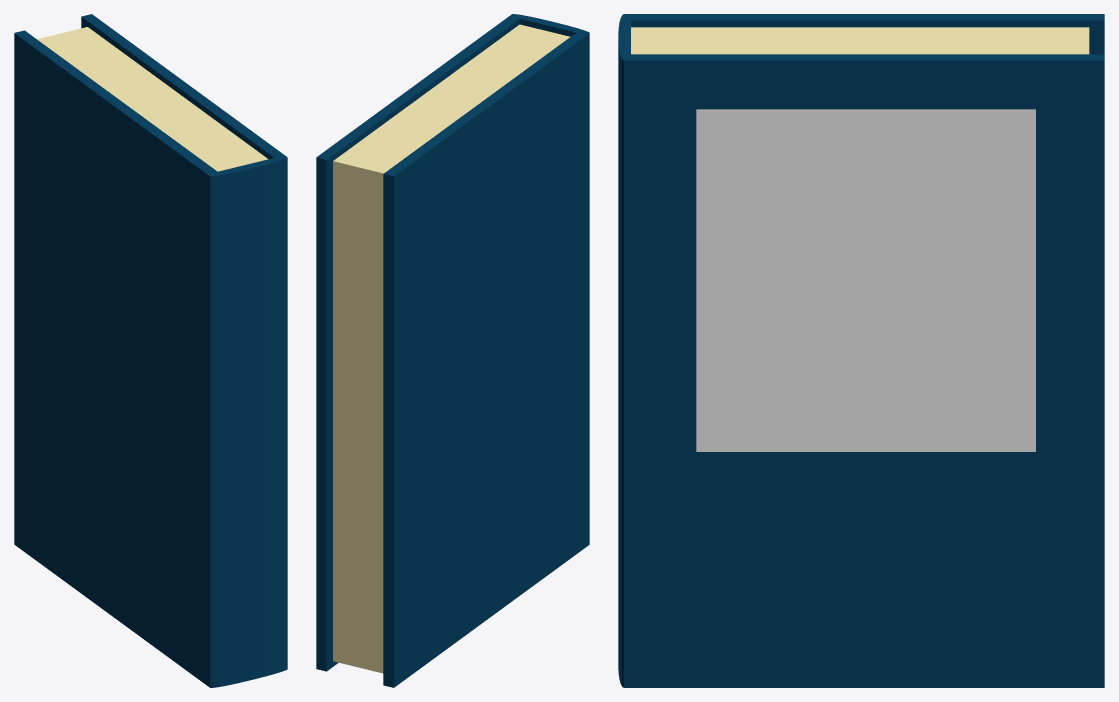
Rendered from Book3.fbx.
3 renders of one model, left to right at view 1: azimuth 30°, elevation 25°; view 2: azimuth 150°, elevation 25°; view 3: azimuth 270°, elevation 25°, orthographic. The views are drawn at different scales.
Parts seen in each view (by area): view 1: Cube.002, Cube.003, Cube, Cube.001; view 2: Cube.002, Cube, Cube.001, Cube.003; view 3: Cube.001, Plane, Cube, Cube.003, Cube.002.
Part boxes in pixels (<box>): Cube.002: <box>14,30,218,686</box>; Cube.003: <box>208,156,287,687</box>; Cube: <box>37,27,267,171</box>; Cube.001: <box>81,14,285,159</box>; Cube.002: <box>383,31,588,687</box>; Cube: <box>333,24,570,673</box>; Cube.001: <box>316,15,520,671</box>; Cube.003: <box>511,14,589,545</box>; Cube.001: <box>627,54,1104,687</box>; Plane: <box>696,109,1035,451</box>; Cube: <box>631,27,1089,54</box>; Cube.003: <box>618,14,630,687</box>; Cube.002: <box>627,14,1104,54</box>.
Bounding box in the file's own units: 7.2 × 45 × 31.61.
